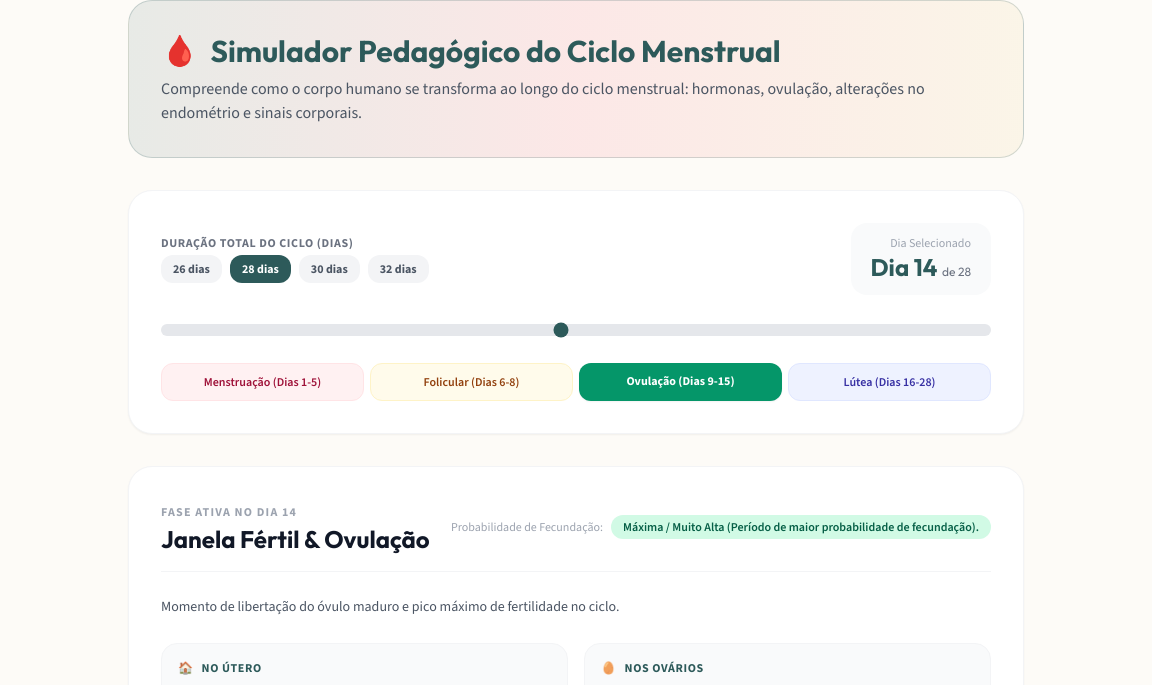
it: MenstrualCycleSim › shows luteal phase details for day 20
Click the text "Lútea (Dias 16-28)" at {"x": 890, "y": 382}, box [788,363,991,401]
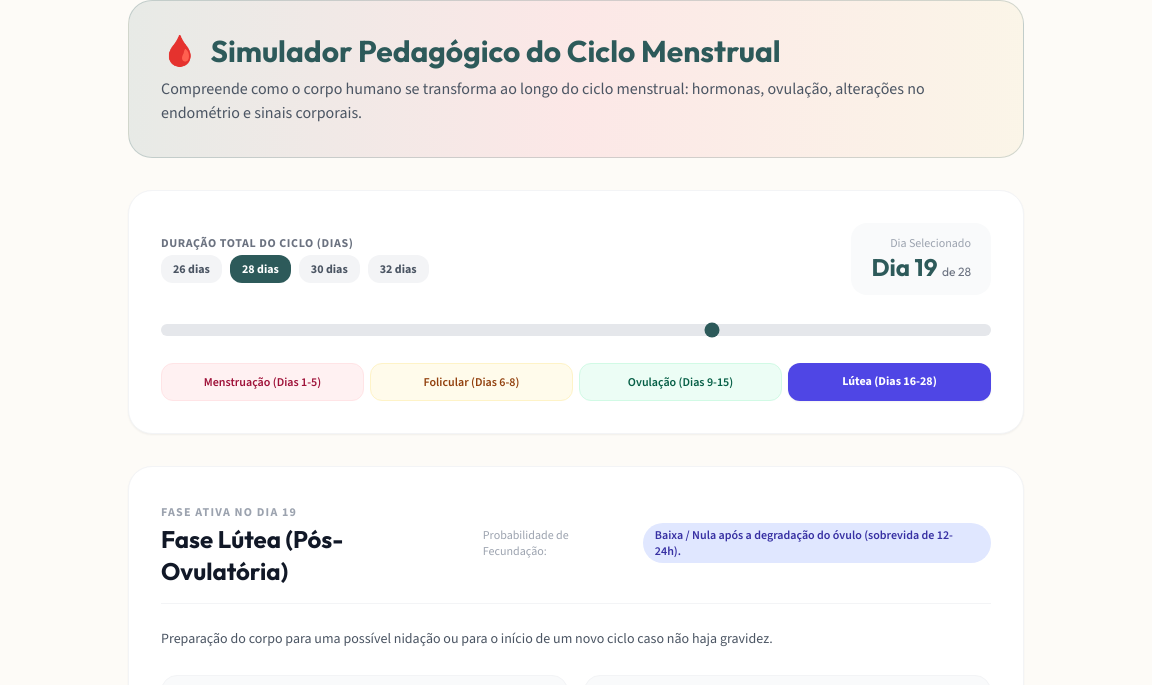
Expected: the heading "Fase Lútea (Pós-Ovulatória)" is shown, [161,524,344,586]
Expected: the text "Baixa / Nula" is shown, [655,527,953,559]
